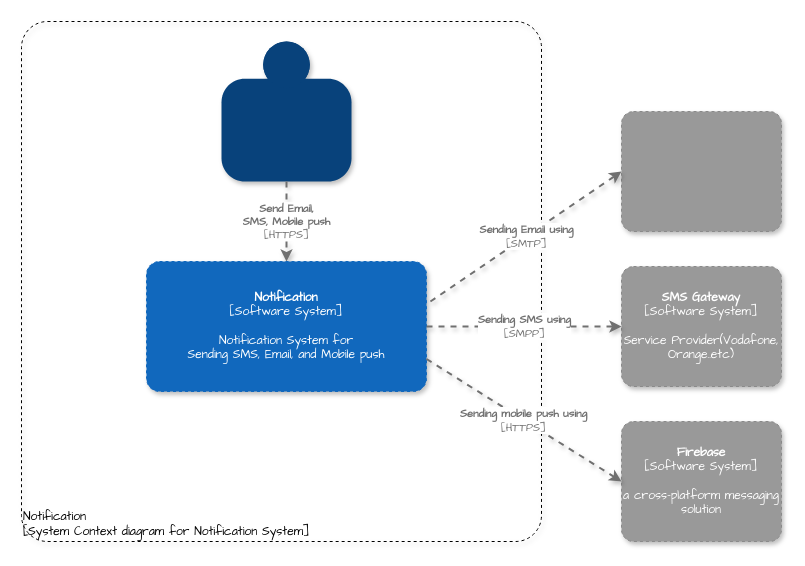
Image size: 805x566. Some labels were removed from this diagram. The shapes that lost their labels are listed below. From the top down, each one's centre as x and y in pixels, then its label:
the point at 287,112: User [Person] Notification System User
the point at 702,172: E-mail System [Software System] Microsoft Exchange email system
